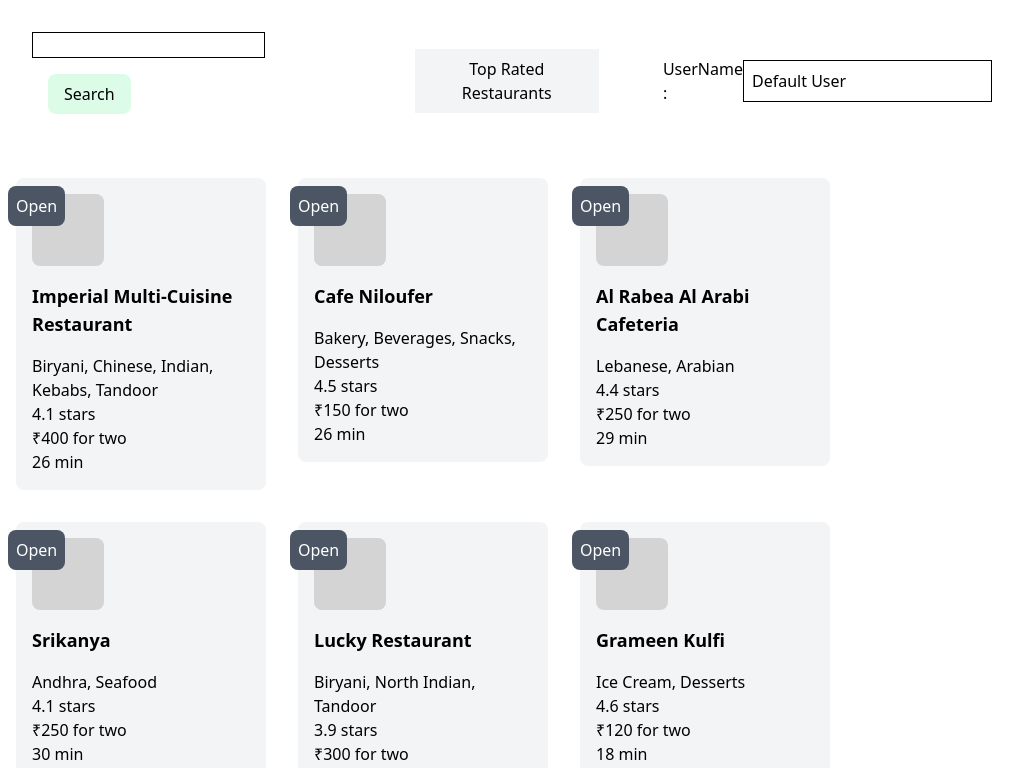
it: Should filter top-rate restaurants
Click the button "Top Rated Restaurants": (507, 81) [415,49,599,113]
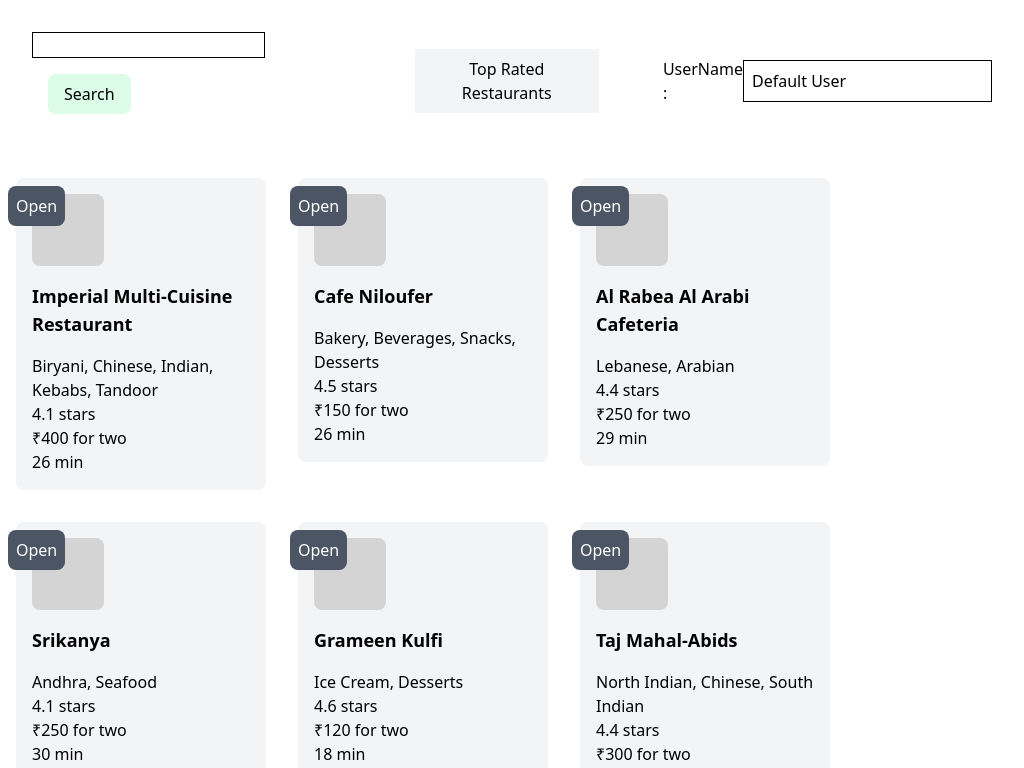
Expected: the number of elements with test id "resCard" is 16
